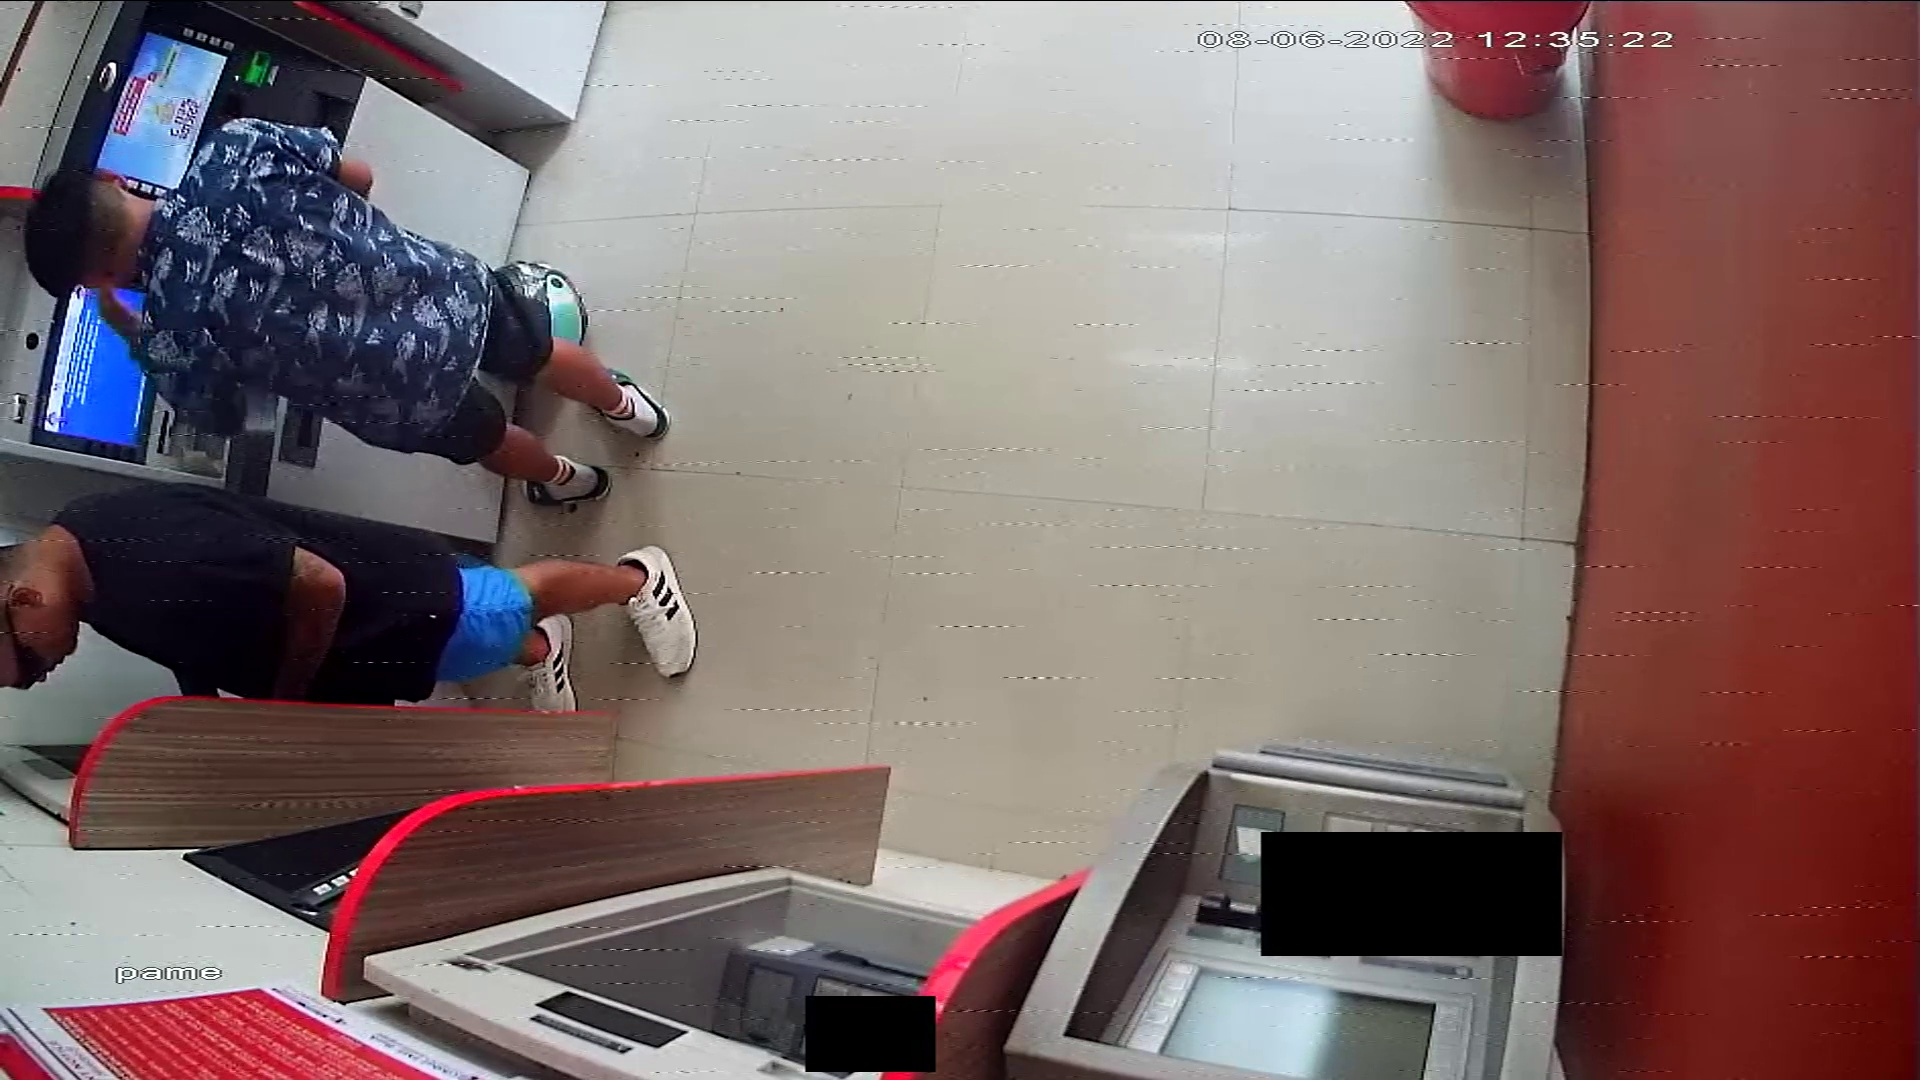helmet: (494, 259, 591, 343)
person: (22, 113, 669, 508), (1, 482, 701, 712)
